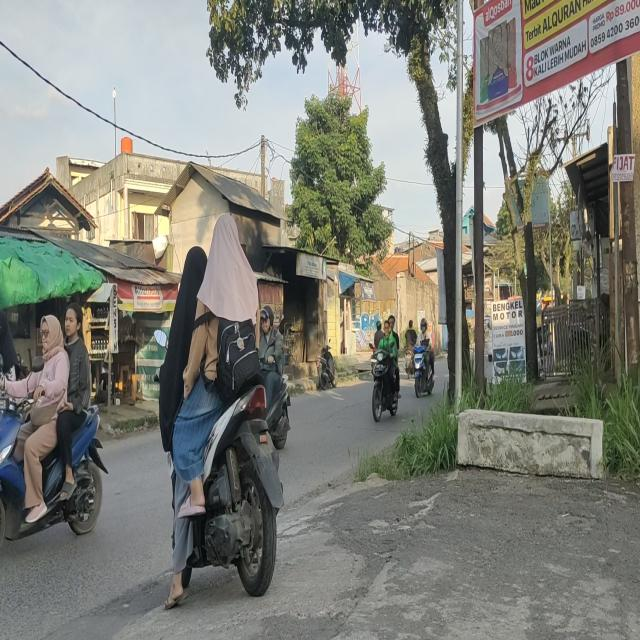helmet: (261, 306, 274, 331), (420, 318, 428, 332), (376, 320, 382, 331)
no-helmet: (179, 242, 209, 297), (210, 212, 242, 260), (38, 310, 62, 358), (65, 303, 82, 345), (0, 309, 10, 341), (388, 313, 396, 331), (383, 321, 391, 336), (427, 319, 433, 335), (408, 317, 414, 332)
